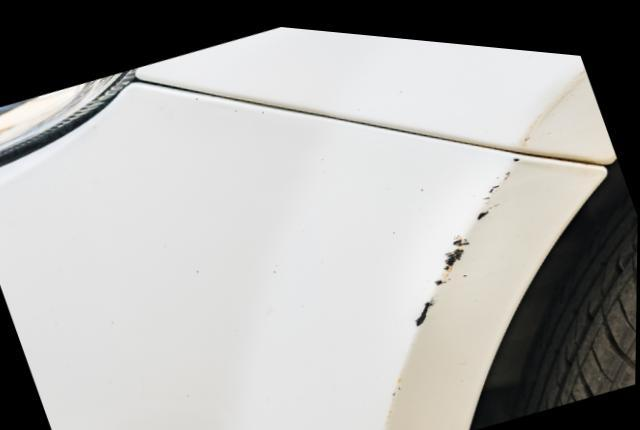scratch: (408, 155, 520, 326)
